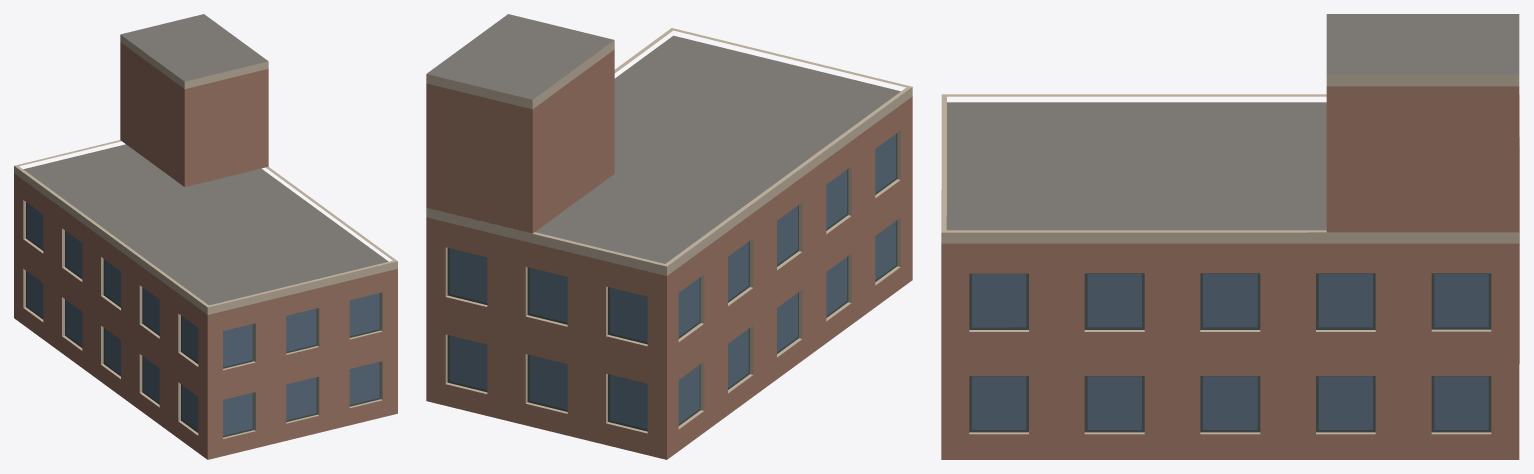
The model's file is dc-au-rockwood-building.detail.glb.
3 views of the same model, side by side, from view 1: azimuth 30°, elevation 25°; view 2: azimuth 150°, elevation 25°; view 3: azimuth 270°, elevation 25° (orthographic). The views are drawn at different scales.
Visible parts, largest first — view 1: Rockwood Building; view 2: Rockwood Building; view 3: Rockwood Building.
Part boxes in pixels (bbox=[...]): Rockwood Building: bbox=[14, 14, 397, 459]; Rockwood Building: bbox=[426, 14, 912, 459]; Rockwood Building: bbox=[941, 14, 1519, 459].
Bounding box in the file's own units: 8.48 × 11 × 14.98.
